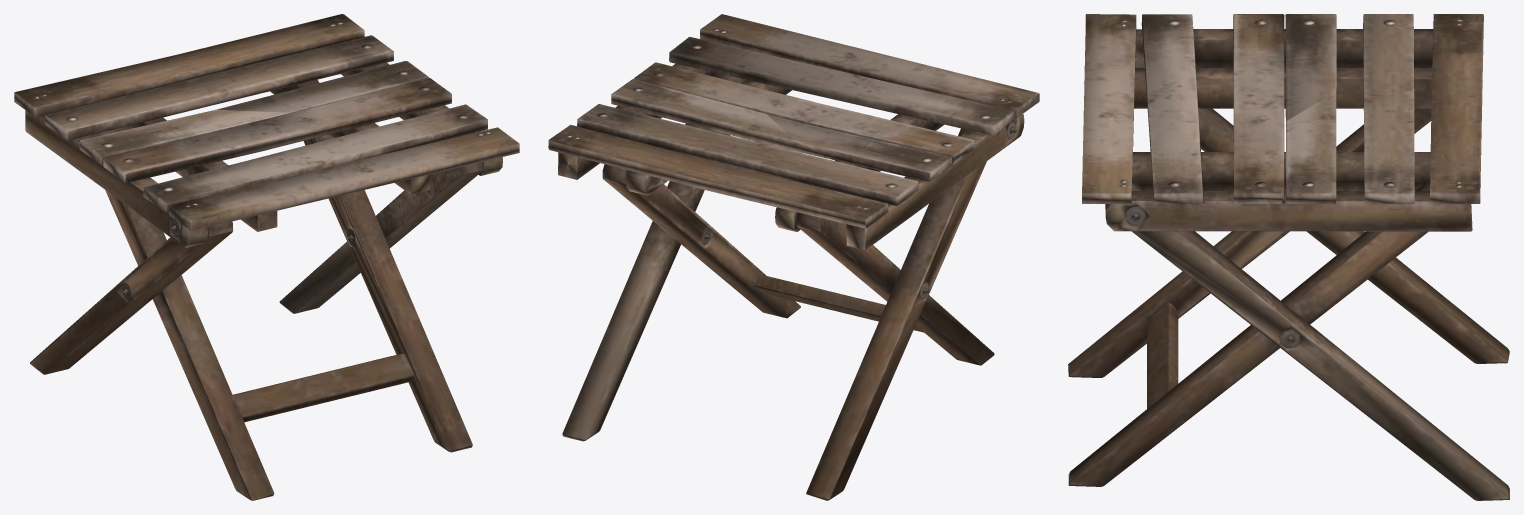
Rendered from folding_wooden_stool.glb.
3 views of the same model, side by side, from view 1: azimuth 30°, elevation 25°; view 2: azimuth 150°, elevation 25°; view 3: azimuth 270°, elevation 25° (orthographic). The views are drawn at different scales.
Parts seen in each view (by area): view 1: folding_wooden_stool; view 2: folding_wooden_stool; view 3: folding_wooden_stool.
Part boxes in pixels (x1,y1,x2,y2): folding_wooden_stool: (14, 14, 519, 500); folding_wooden_stool: (548, 14, 1039, 500); folding_wooden_stool: (1068, 14, 1509, 500).
Size of the model in its own units: 0.527 by 0.4401 by 0.5464.
1 material, 1 textured.
